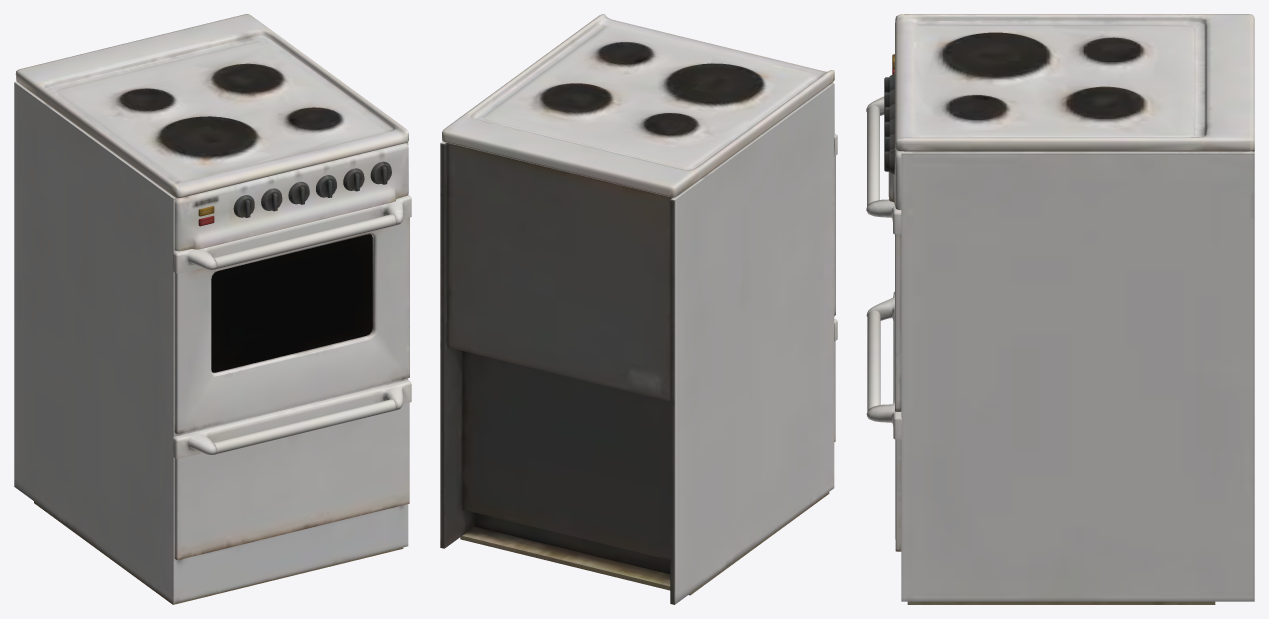
Rendered from electric_stove.glb.
3 views of the same model, side by side, from view 1: azimuth 30°, elevation 25°; view 2: azimuth 150°, elevation 25°; view 3: azimuth 270°, elevation 25° (orthographic). The views are drawn at different scales.
Parts seen in each view (by area): view 1: stovetop, door_top, handle_bottom_attachment; view 2: stovetop; view 3: stovetop, handle_bottom_attachment, door_top.
Part boxes in pixels (x1,y1,x2,y2): stovetop: (14,14,408,604); door_top: (173,195,411,433); handle_bottom_attachment: (173,380,411,559); stovetop: (440,14,834,604); stovetop: (888,14,1254,604); handle_bottom_attachment: (866,291,901,551); door_top: (866,96,901,411).
Size of the model in its own units: 0.5026 by 0.8587 by 0.6476.
Materials: 2 (2 with a texture image).
